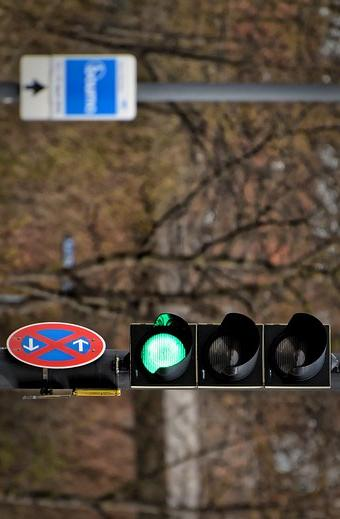trafic: (132, 322, 334, 391)
